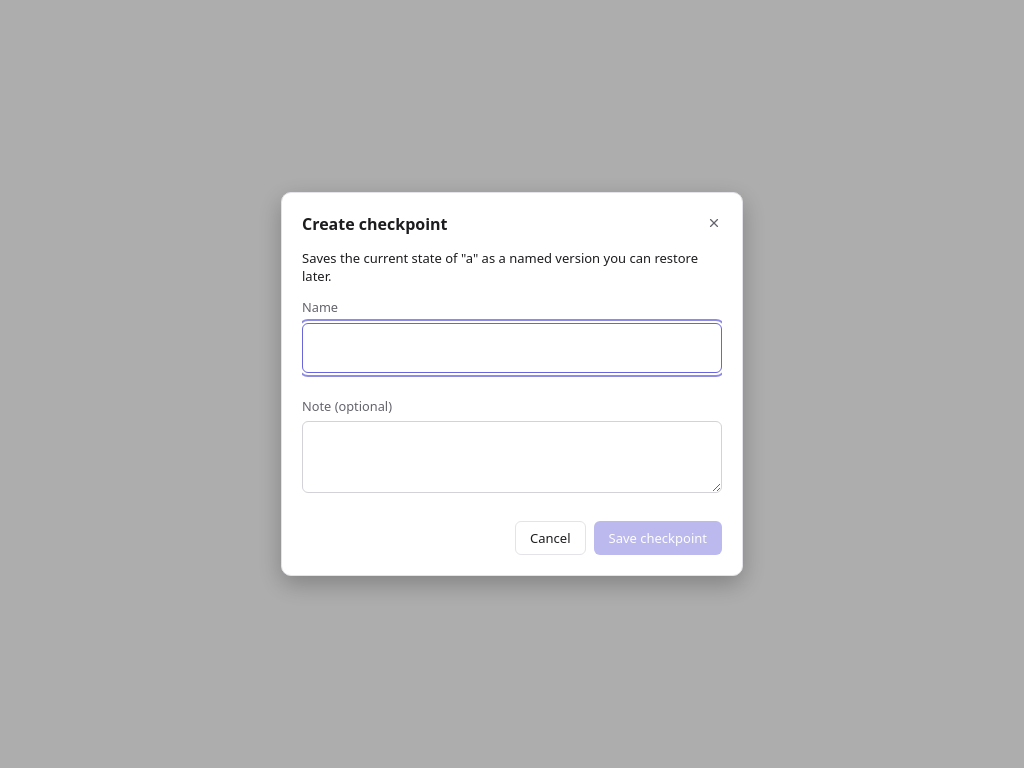
Test: HistoryHost › checkpoint: flushes first, then saves, then confirms
Type "Milestone" into the field labelled "Name" at [512, 348], box 302,323 -> 722,373
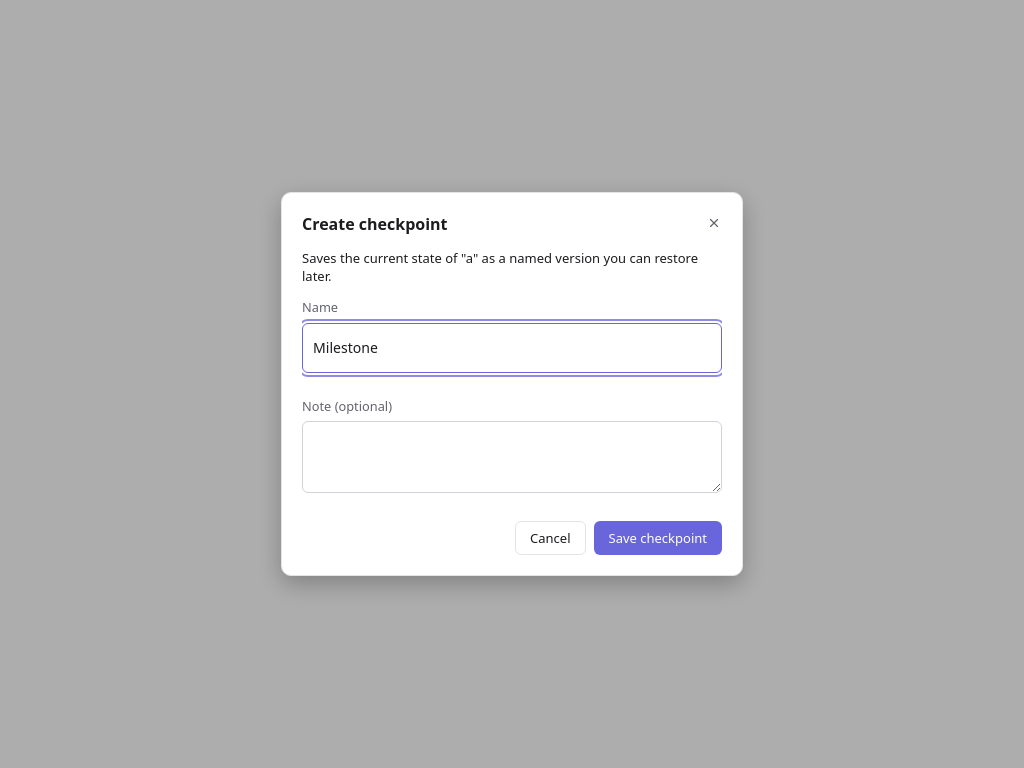
Submit the form labelled "name", box 302,213 -> 722,555
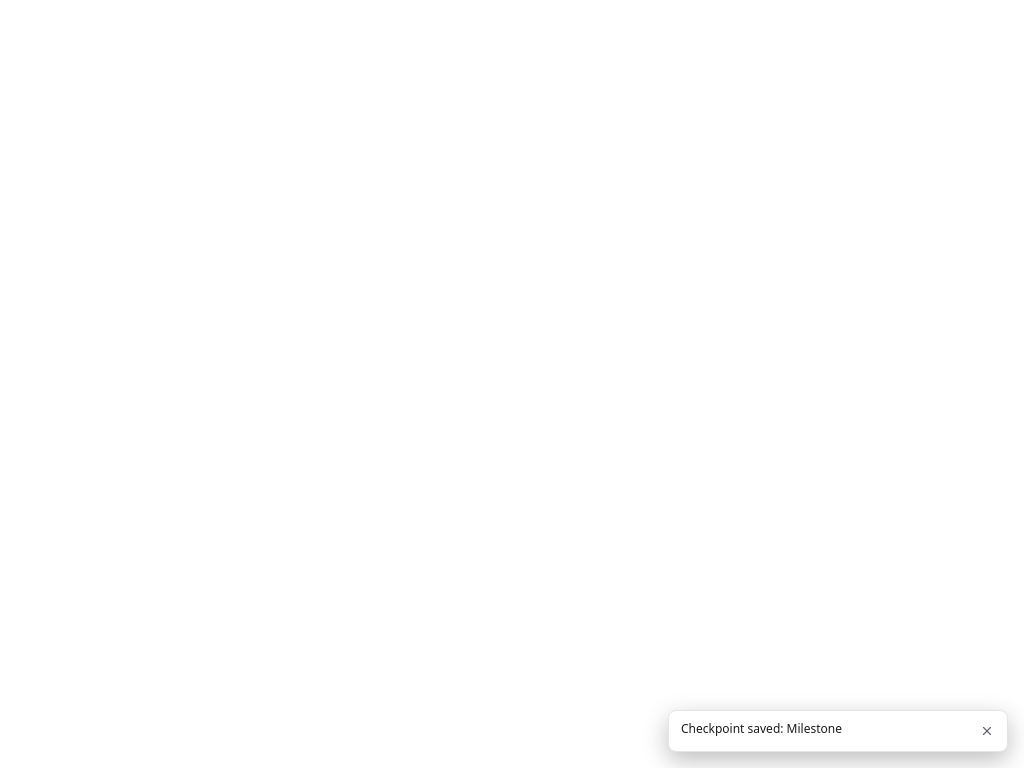
Expected: the text "Checkpoint saved: Milestone" is shown, 681,720 -> 842,737
Expected: the dialog is gone
